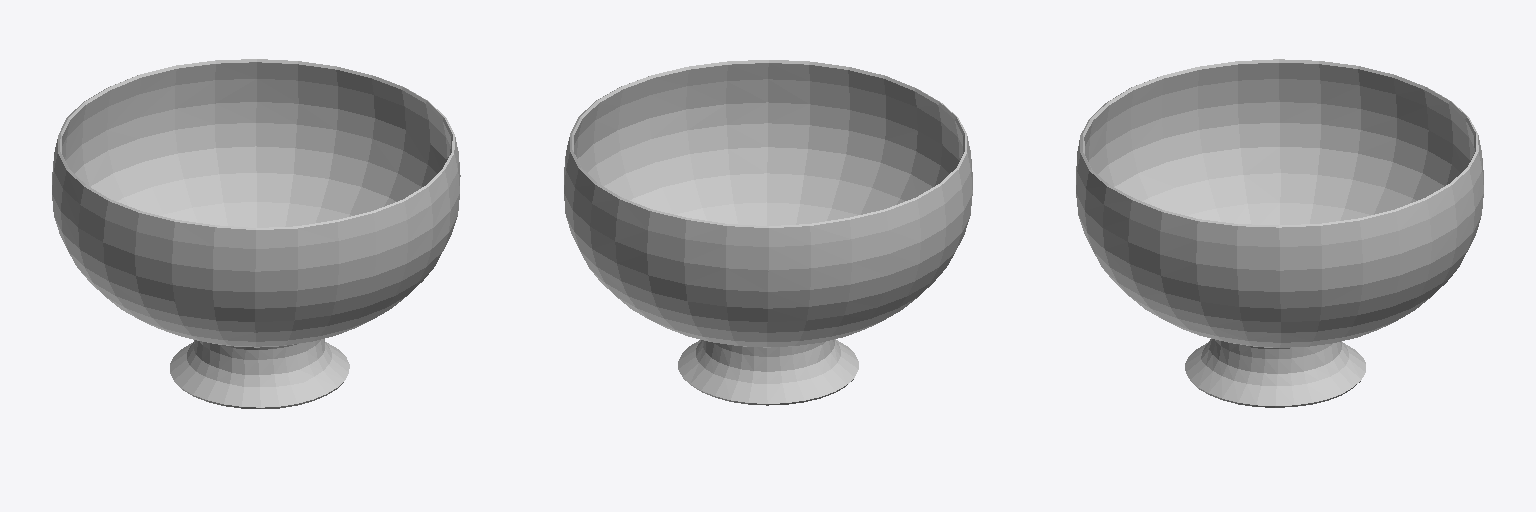
Rendered from cup.obj.
3 renders of one model, left to right at view 1: azimuth 30°, elevation 25°; view 2: azimuth 150°, elevation 25°; view 3: azimuth 270°, elevation 25°, orthographic.
Visible parts, largest first — view 1: OPM0007; view 2: OPM0007; view 3: OPM0007.
Part boxes in pixels (bbox=[...]): OPM0007: bbox=[52, 59, 460, 408]; OPM0007: bbox=[564, 60, 972, 405]; OPM0007: bbox=[1076, 59, 1483, 407].
Bounding box in the file's own units: 0.1611 × 0.0987 × 0.1598.